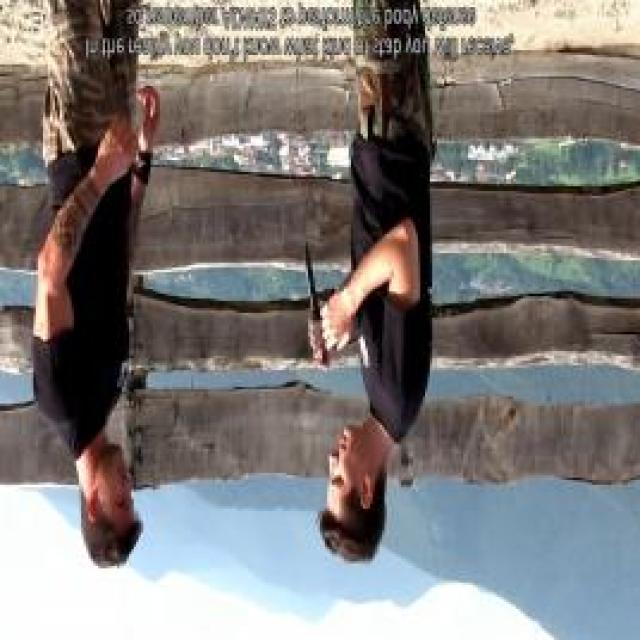knife: (298, 233, 329, 372)
